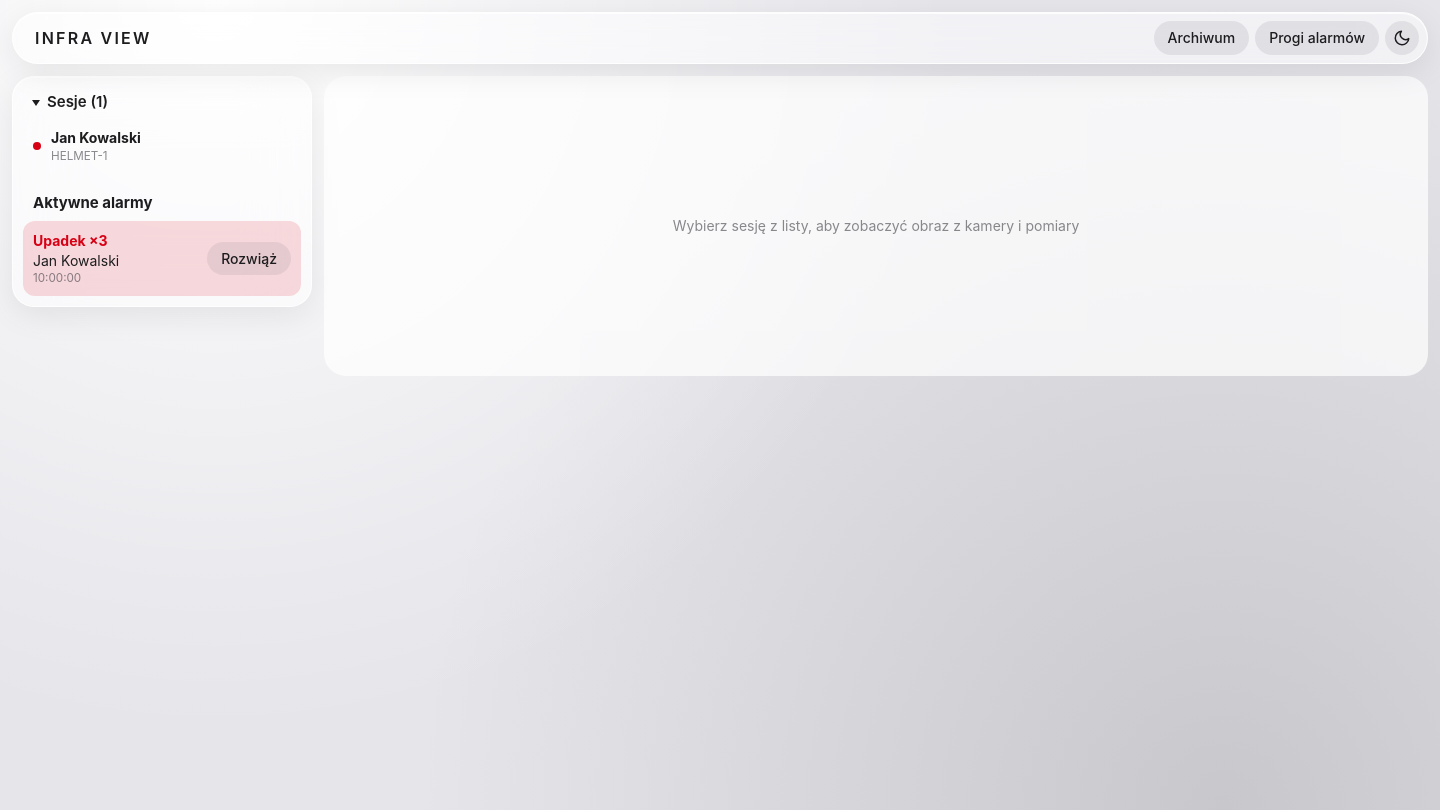
błąd operacji zostaje na ekranie do zamknięcia
What coordinates should you click on to do the following:
click the button "Jan Kowalski HELMET-1"
I would click on:
 (96, 138)
Its box is [23,120,301,172].
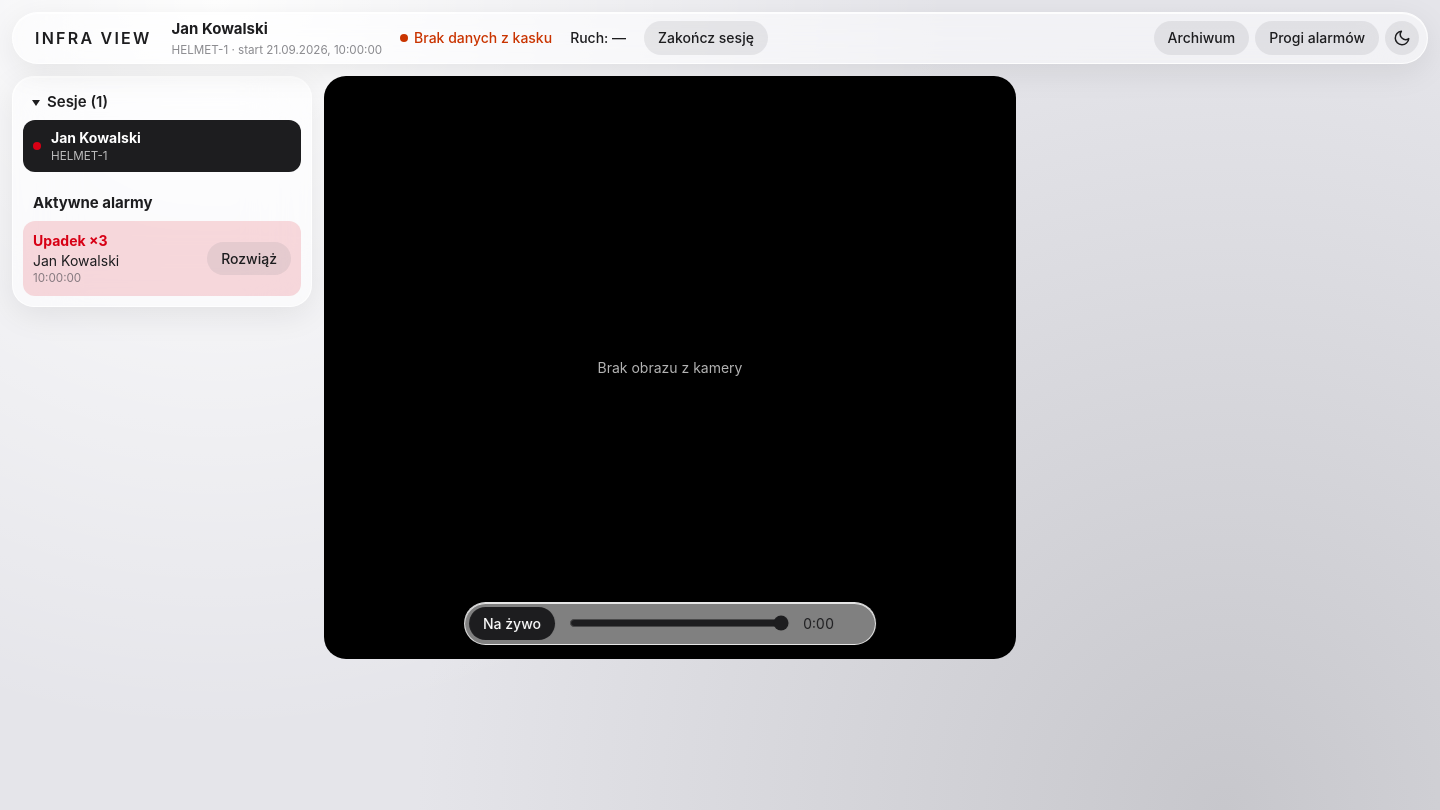
What coordinates should you click on to do the following:
click the button "Zakończ sesję"
I would click on:
 (706, 38)
Its box is [644,21,768,55].
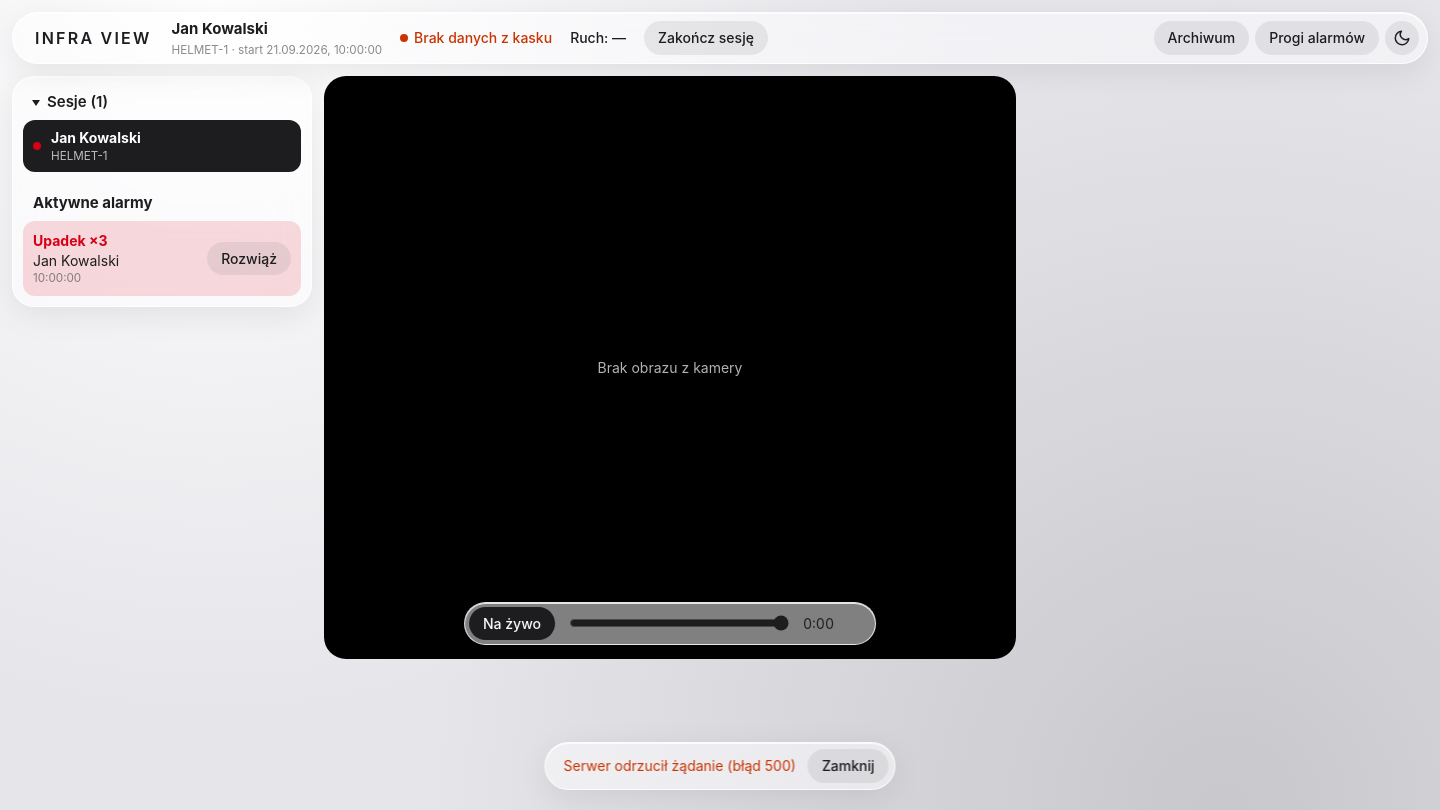
What coordinates should you click on to do the following:
click the button "Zamknij"
I would click on:
 (848, 766)
Its box is [808,749,889,783].
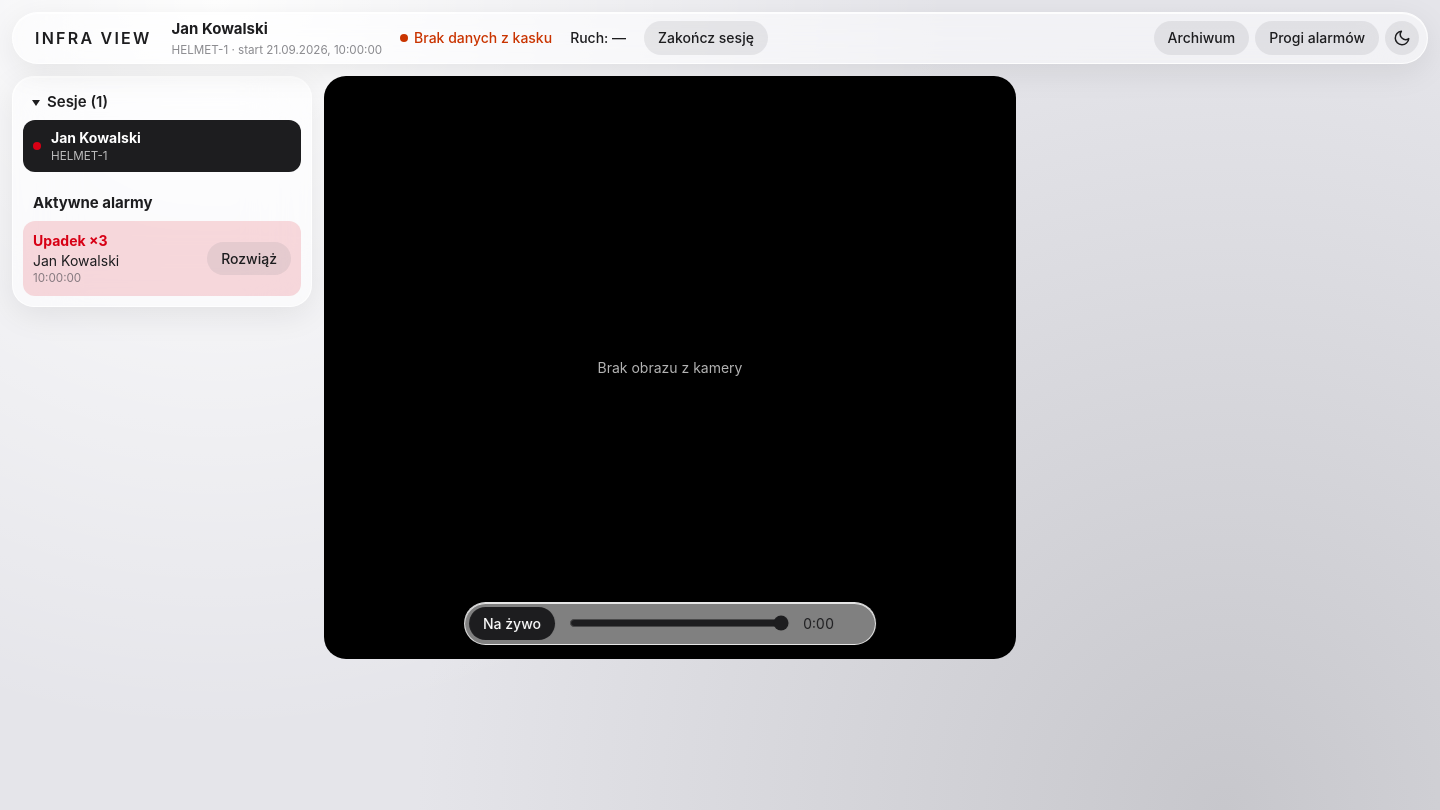
Expected: the text "Serwer odrzucił żądanie (błąd 500)" is gone
